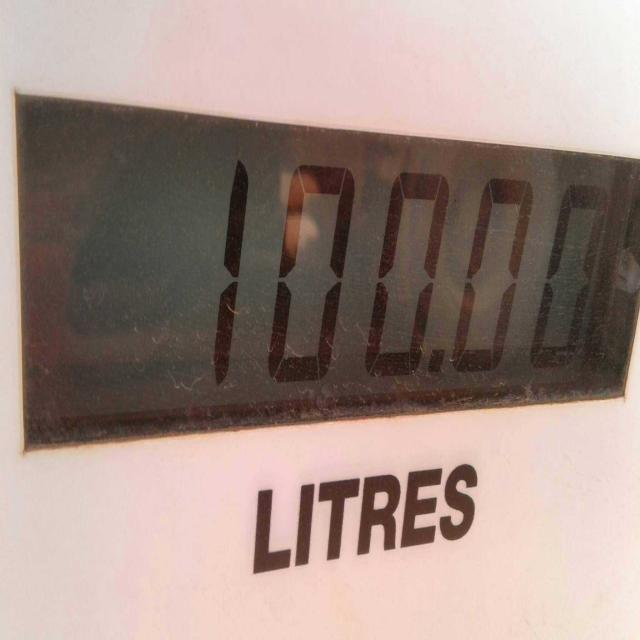.: (424, 340, 452, 390)
0: (266, 126, 356, 404), (365, 159, 452, 402), (453, 164, 533, 386), (531, 173, 611, 385)
1: (200, 140, 263, 392)
